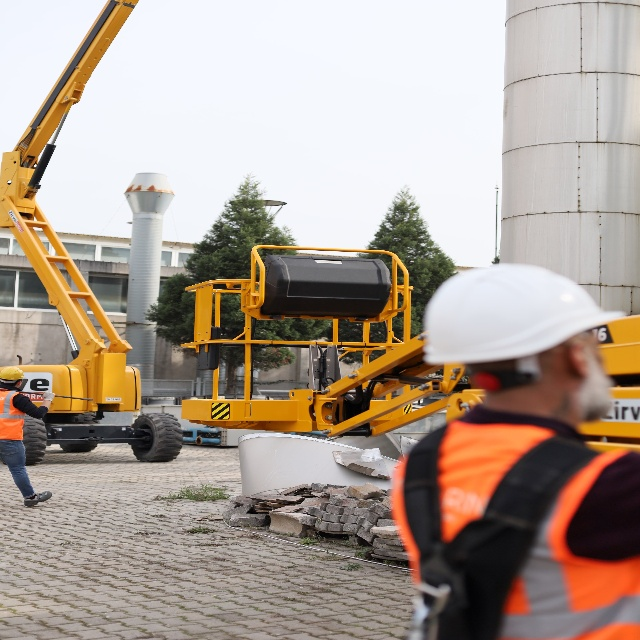Guantes: (40, 390, 55, 403)
